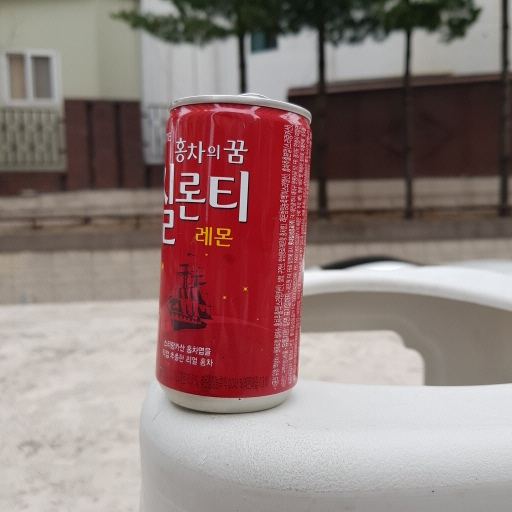Metal_0: (158, 90, 313, 414)
